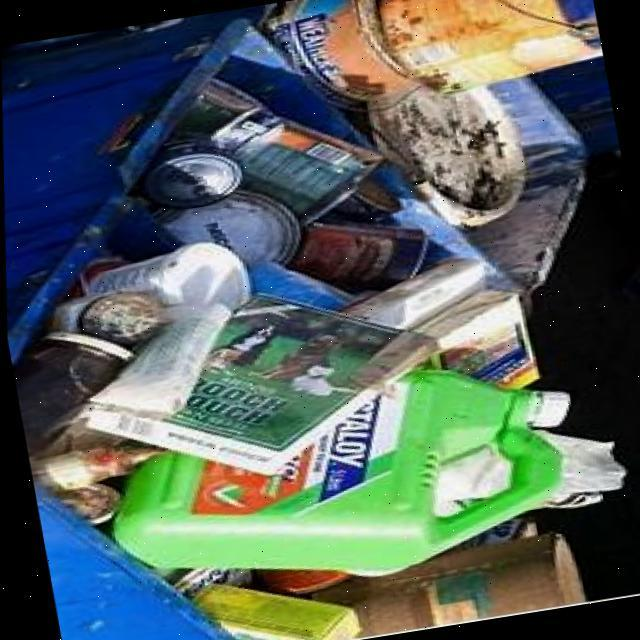Garbage: (14, 82, 621, 640), (267, 0, 603, 226)
Metal: (313, 534, 581, 637), (377, 0, 600, 92), (208, 108, 382, 223), (263, 0, 421, 109), (154, 191, 299, 264), (287, 225, 425, 290), (141, 134, 241, 209), (170, 79, 270, 143), (245, 262, 352, 311), (253, 570, 347, 594)
Plastic: (28, 447, 159, 524), (245, 262, 352, 310), (153, 567, 250, 596)
Plastic_Container: (113, 369, 565, 576), (366, 86, 525, 227), (12, 332, 131, 454), (84, 242, 248, 319), (45, 292, 166, 346)
